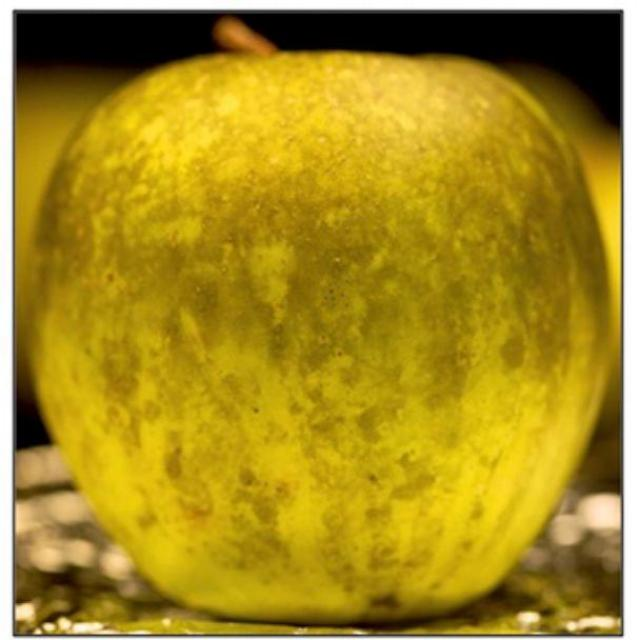BLOTCH: (43, 34, 599, 622)
